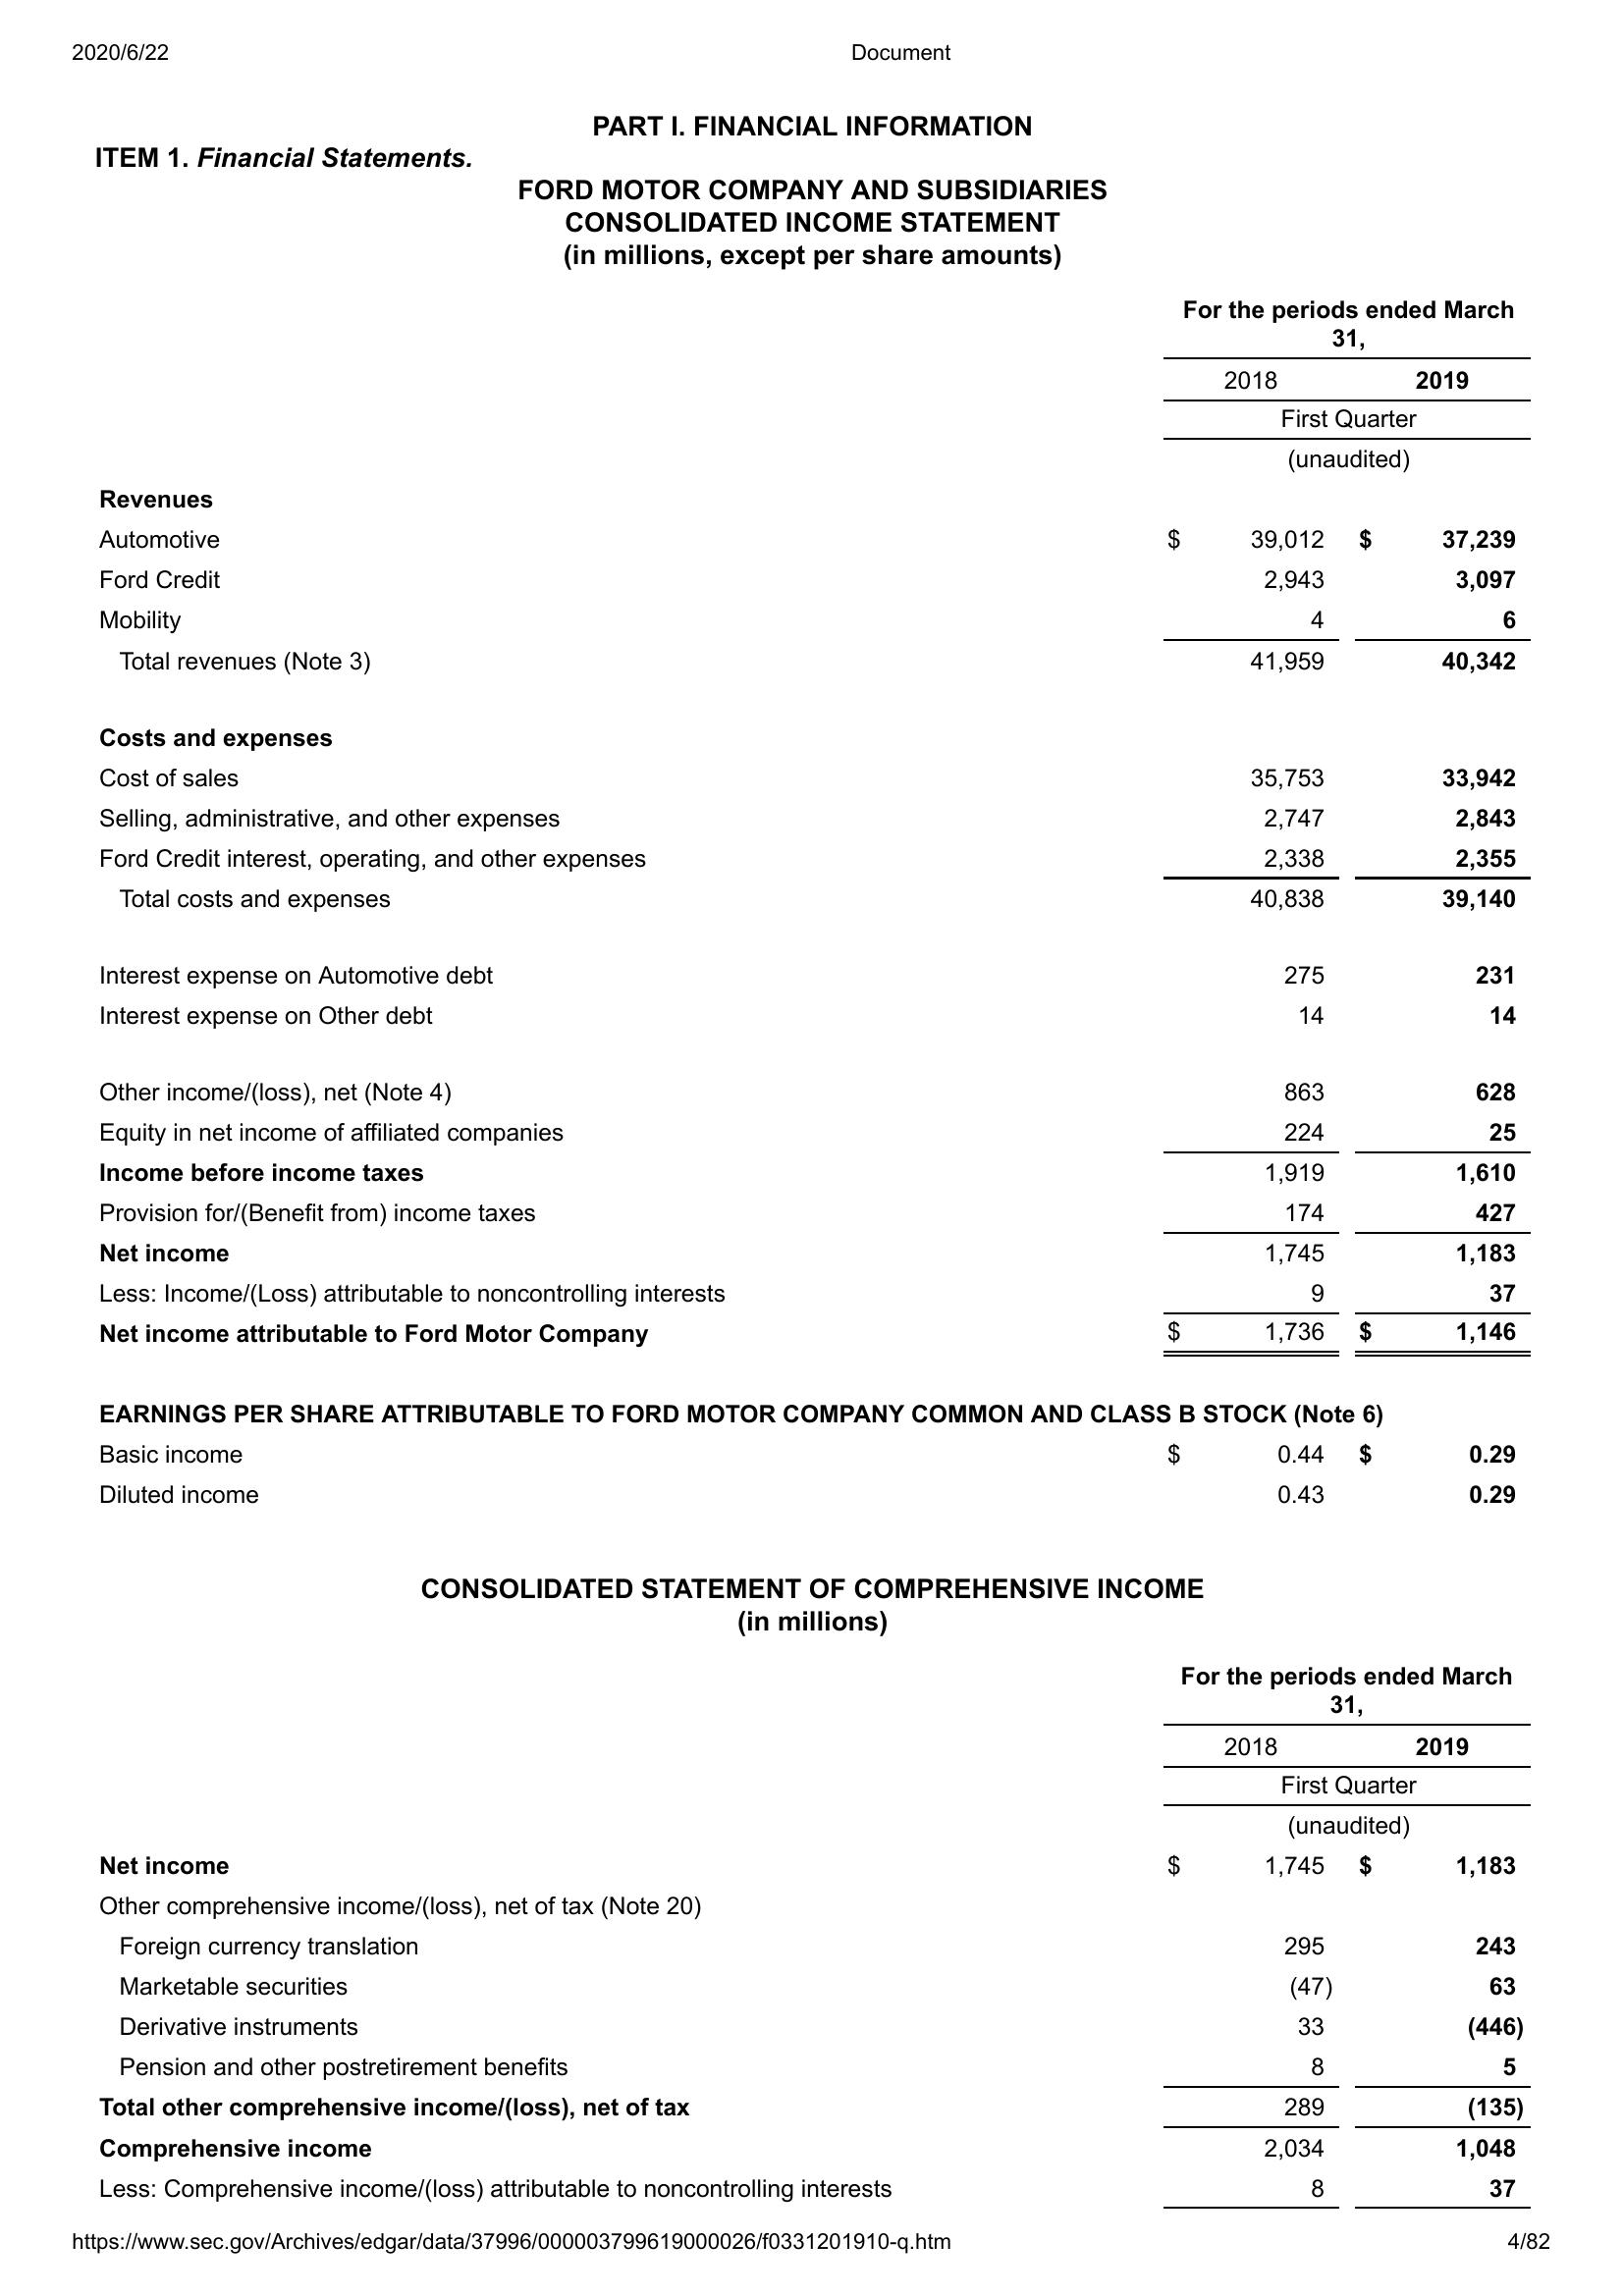table: (95, 293, 1533, 1367), (95, 1655, 1539, 2217), (91, 1387, 1528, 1545)
